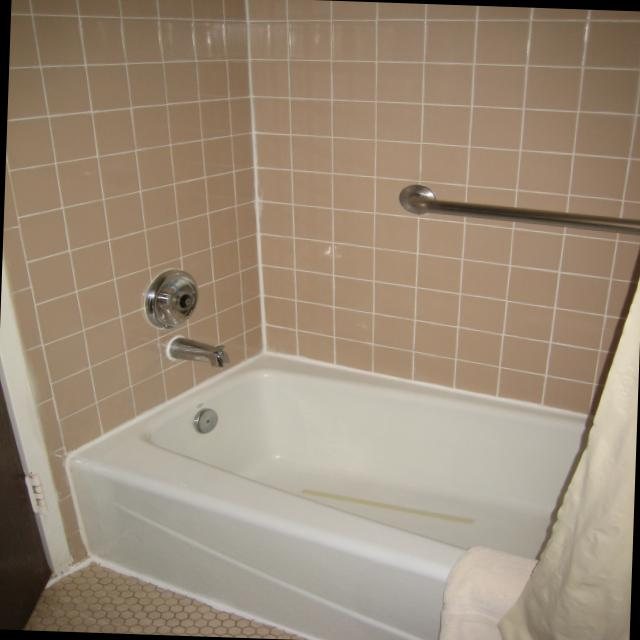bath crop: (68, 352, 637, 640)
door entrance: (0, 375, 54, 629)
floor -X: (21, 561, 319, 640)
wall clock: (246, 0, 640, 424)
